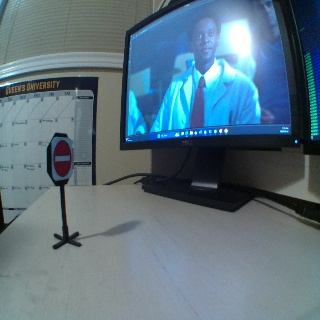sign_noentry: (49, 135, 73, 178)
